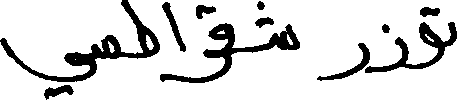ا: (193, 49, 232, 84), (161, 0, 183, 51)
ت: (418, 6, 455, 47)
ر: (315, 41, 369, 82)
ز: (369, 21, 408, 73)
س: (94, 33, 119, 75)
ش: (249, 2, 300, 50)
ط: (119, 0, 158, 60)
ق: (194, 4, 233, 53)
و: (406, 24, 443, 69)
ي: (0, 36, 96, 99)
